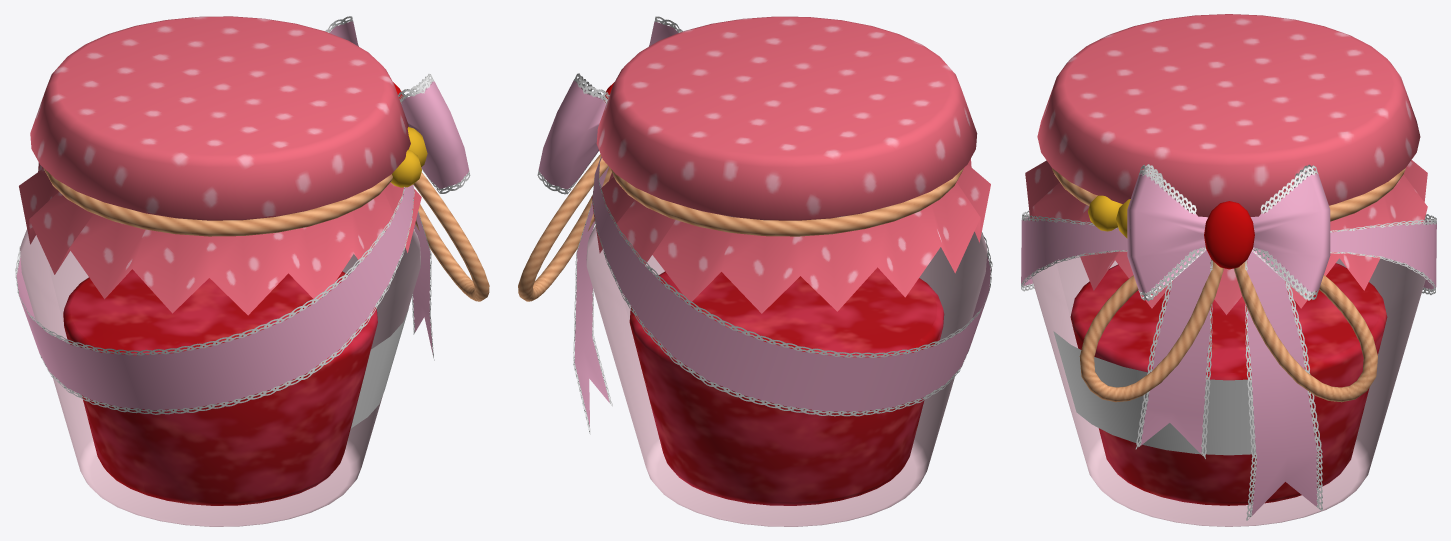
Rendered from bottle.glb.
3 views of the same model, side by side, from view 1: azimuth 30°, elevation 25°; view 2: azimuth 150°, elevation 25°; view 3: azimuth 270°, elevation 25° (orthographic).
Parts seen in each view (by area): view 1: Decoration, Bottle; view 2: Decoration, Bottle; view 3: Decoration, Bottle.
Boxes of the visible parts, bbox=[...] form: Decoration: bbox=[15, 16, 489, 414]; Bottle: bbox=[20, 229, 420, 526]; Decoration: bbox=[518, 16, 992, 434]; Bottle: bbox=[586, 226, 987, 526]; Decoration: bbox=[1021, 14, 1436, 520]; Bottle: bbox=[1031, 255, 1426, 526].
Size of the model in its own units: 0.1485 by 0.1416 by 0.137.
3 materials, 3 textured.
